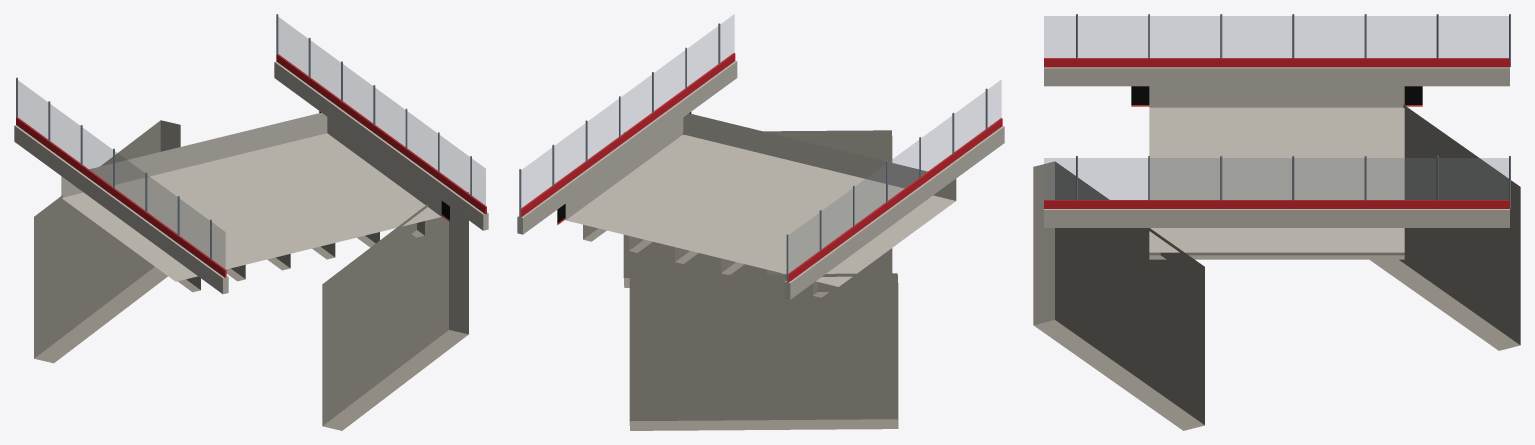
Rendered from crossover_bridge.glb.
3 views of the same model, side by side, from view 1: azimuth 30°, elevation 25°; view 2: azimuth 150°, elevation 25°; view 3: azimuth 270°, elevation 25° (orthographic). The views are drawn at different scales.
Parts seen in each view (by area): view 1: crossover_bridge; view 2: crossover_bridge; view 3: crossover_bridge.
Part boxes in pixels (x1=…): crossover_bridge: x1=14, y1=14, x2=488, y2=430; crossover_bridge: x1=517, y1=14, x2=1004, y2=430; crossover_bridge: x1=1033, y1=14, x2=1520, y2=430.
Size of the model in its own units: 25.08 by 15.3 by 27.01.
Materials: 12 (1 with a texture image).
